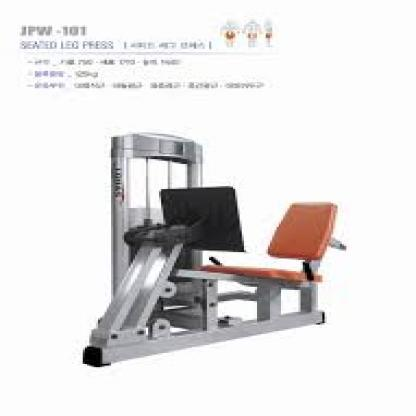leg press: (53, 128, 357, 370)
